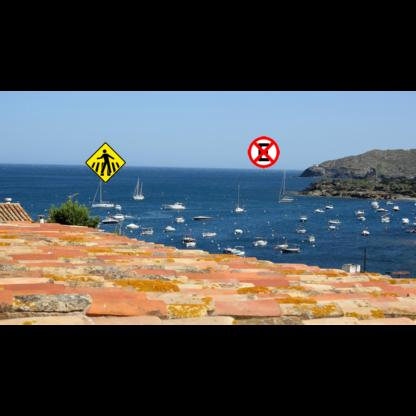A-32b: (85, 142, 126, 183)
R-6c: (248, 136, 280, 168)
